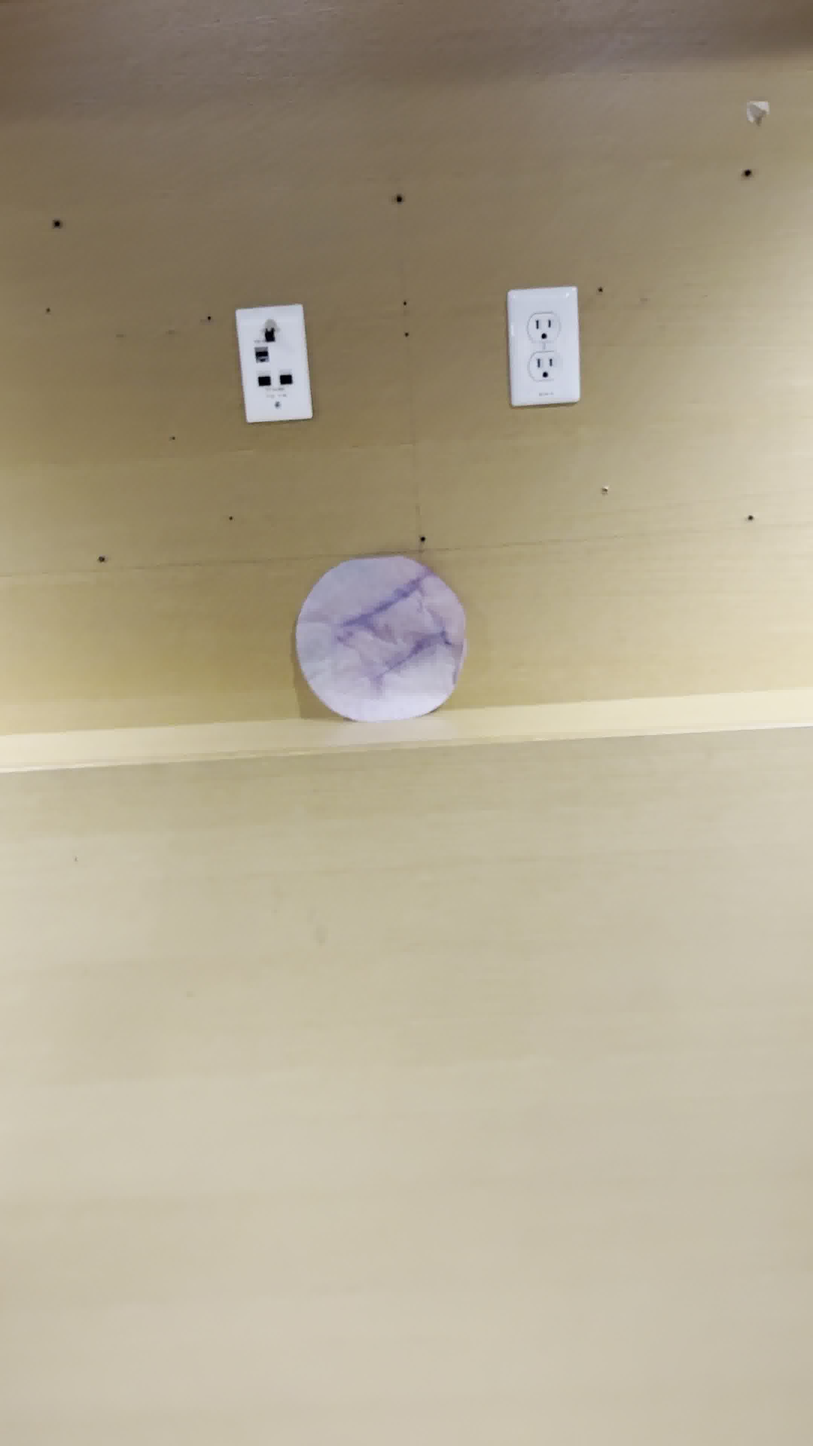Target: (286, 555, 460, 719)
